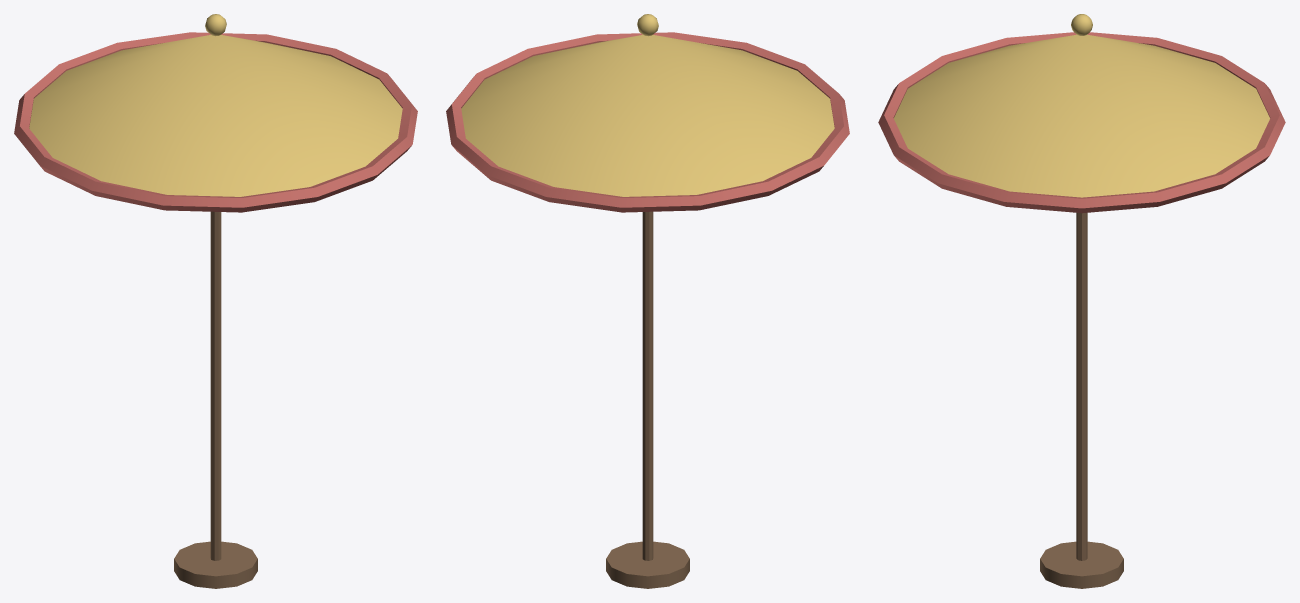
File: Payung_Ceremonial.fbx
3 views of the same model, side by side, from view 1: azimuth 30°, elevation 25°; view 2: azimuth 150°, elevation 25°; view 3: azimuth 270°, elevation 25° (orthographic).
Visible parts, largest first — view 1: Payung_Ceremonial; view 2: Payung_Ceremonial; view 3: Payung_Ceremonial.
Part boxes in pixels (x1,y1,x2,y2): Payung_Ceremonial: [14, 14, 417, 588]; Payung_Ceremonial: [446, 14, 849, 588]; Payung_Ceremonial: [878, 14, 1285, 588].
Size of the model in its own units: 1.46 by 2.2 by 1.46.
